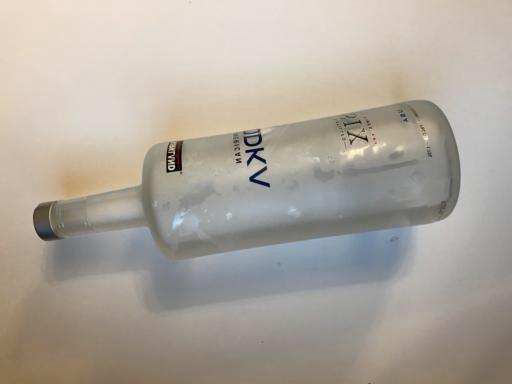alcohol: (32, 100, 461, 262)
glass: (32, 100, 461, 262)
sodocalcique: (32, 100, 461, 262)
